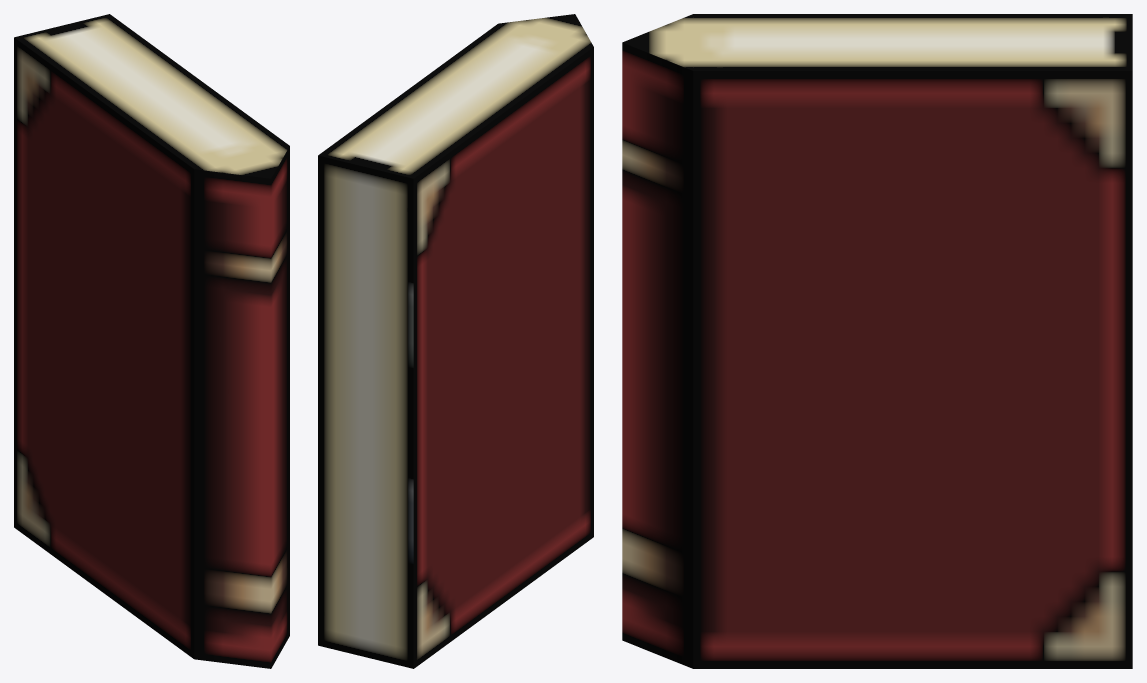
File: deco_cathedral_book_D.FBX
3 views of the same model, side by side, from view 1: azimuth 30°, elevation 25°; view 2: azimuth 150°, elevation 25°; view 3: azimuth 270°, elevation 25° (orthographic). The views are drawn at different scales.
Visible parts, largest first — view 1: deco_cathedral_book_D; view 2: deco_cathedral_book_D; view 3: deco_cathedral_book_D.
Boxes of the visible parts, x1,y1,x2,y2 form: deco_cathedral_book_D: (14,14,289,668); deco_cathedral_book_D: (318,14,593,668); deco_cathedral_book_D: (622,14,1132,668).
Bounding box in the file's own units: 0.2349 × 1.15 × 0.8892.
1 material, 1 textured.
